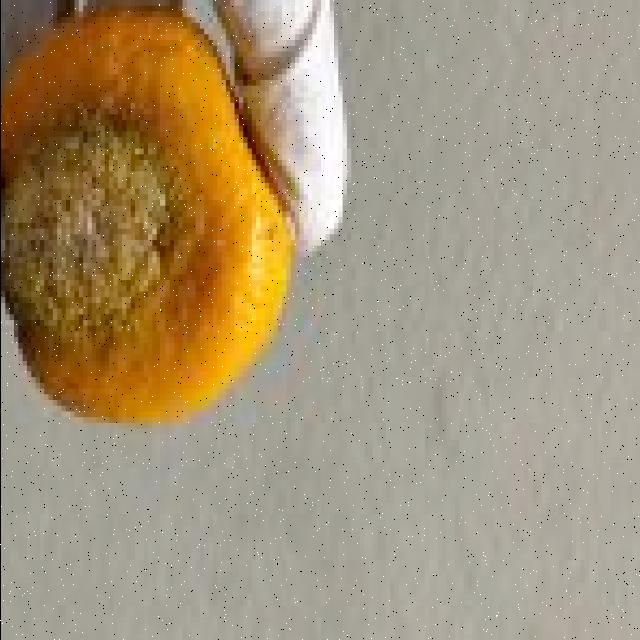Bad_Orange-0-1 day: (0, 6, 294, 429)
